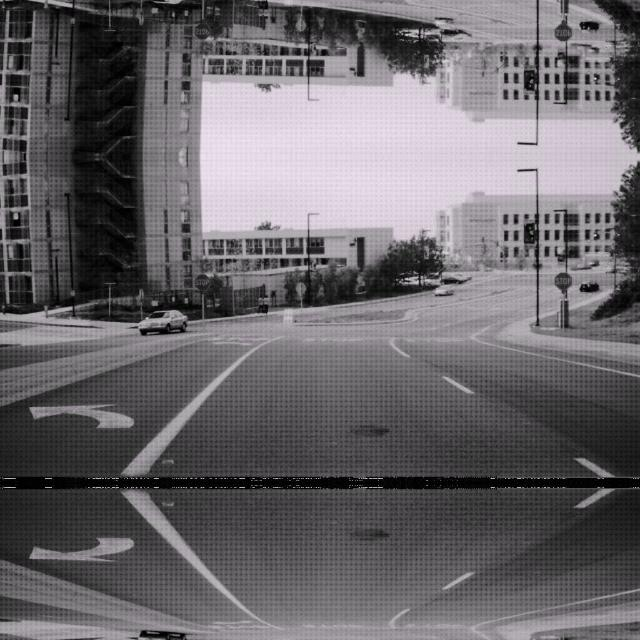stop: (554, 270, 572, 290), (554, 22, 572, 42), (192, 272, 210, 290), (192, 22, 210, 40)
